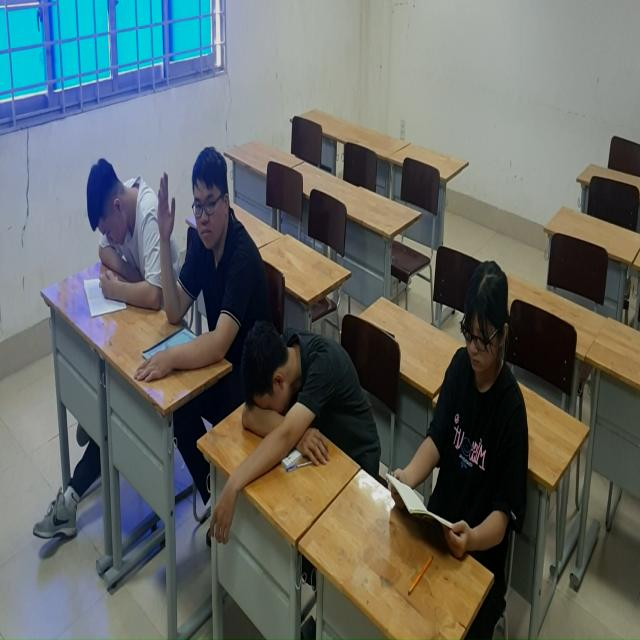raise_hand: (155, 142, 254, 373)
read: (387, 250, 536, 566), (72, 149, 160, 331)
sleep: (206, 317, 377, 557)
